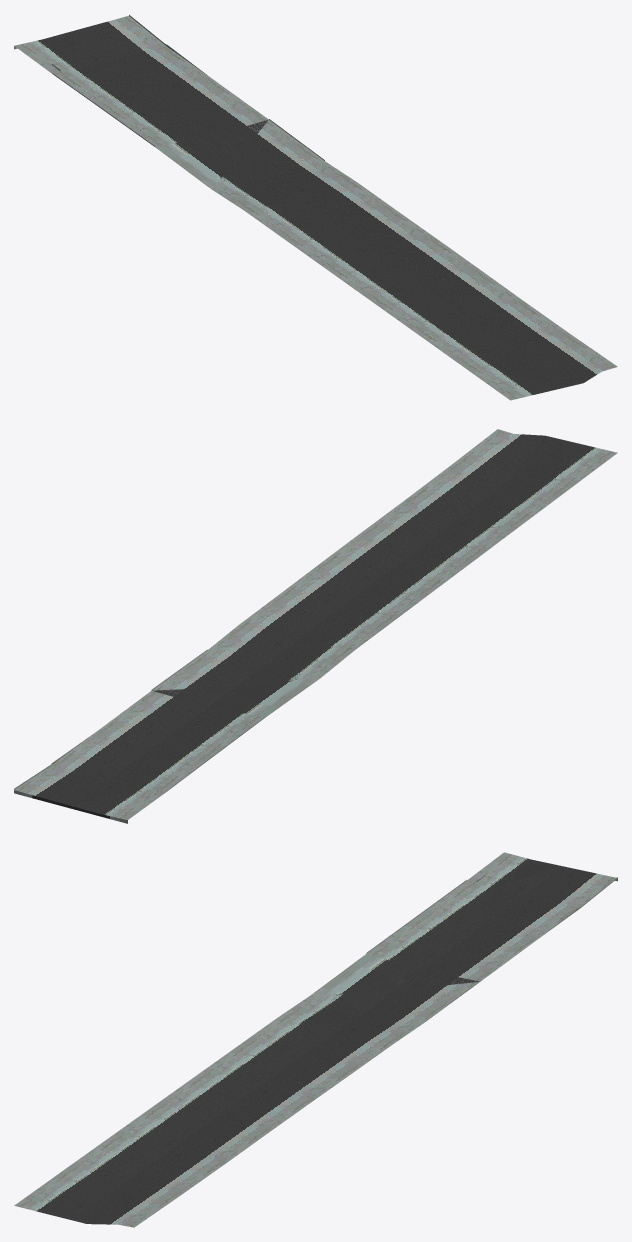
Rendered from lodds22_law2.obj.
The picture shows the model from 3 angles, top to bottom: view 1: azimuth 30°, elevation 25°; view 2: azimuth 150°, elevation 25°; view 3: azimuth 330°, elevation 25°; orthographic projection.
Visible parts, largest first — view 1: LODds22_LAw2; view 2: LODds22_LAw2; view 3: LODds22_LAw2.
Part boxes in pixels (x1,y1,x2,y2): LODds22_LAw2: (14,15,617,400); LODds22_LAw2: (14,429,617,823); LODds22_LAw2: (14,852,617,1227).
Size of the model in its own units: 36.3 by 3.48 by 268.
Materials: 1 (1 with a texture image).
